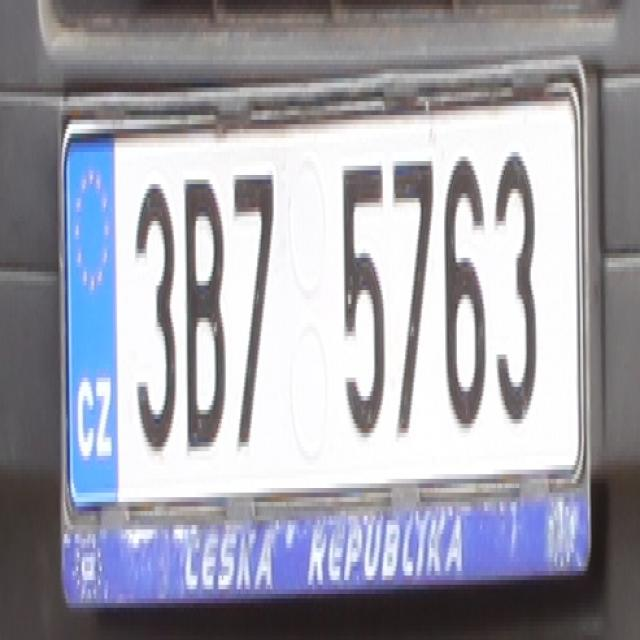3: (495, 138, 536, 419), (135, 184, 178, 447)
5: (339, 147, 385, 442)
6: (443, 143, 489, 428)
7: (391, 152, 432, 451), (232, 175, 276, 451)
B: (182, 175, 227, 451)
